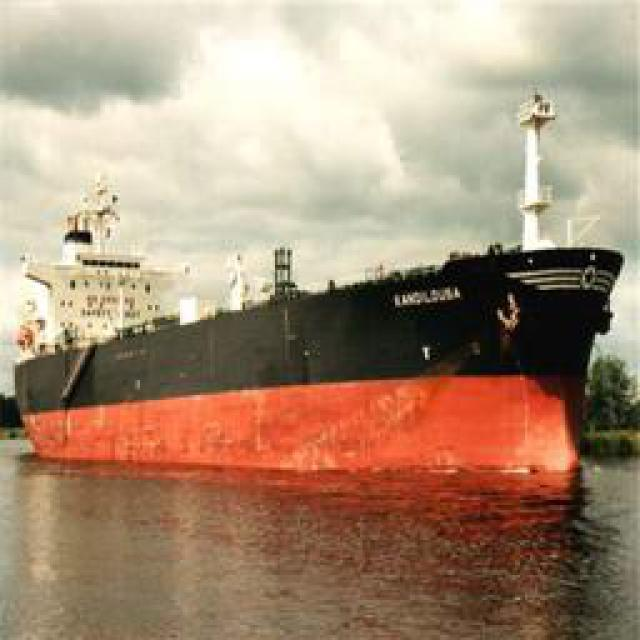Ship: (26, 239, 614, 502)
